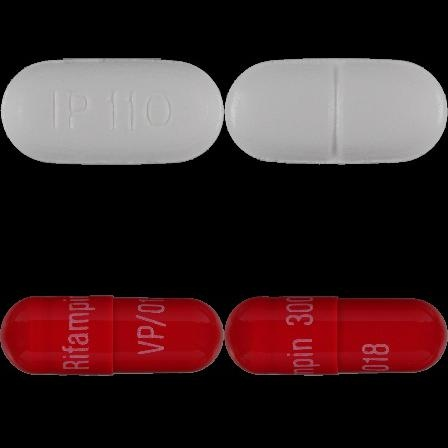61502-908: (0, 0, 224, 224)
